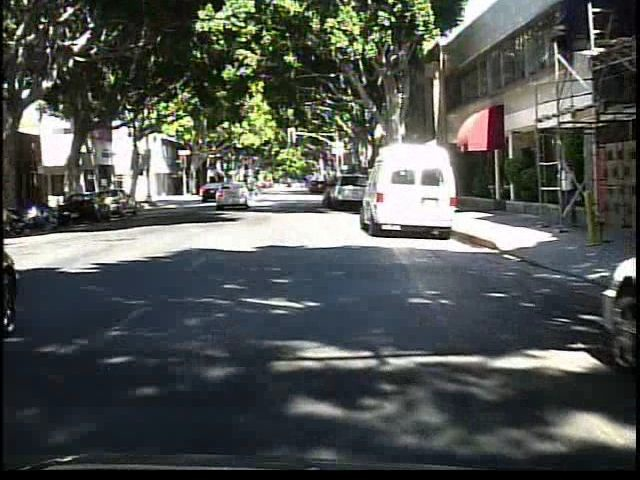person: (552, 159, 578, 232), (249, 175, 264, 206)
